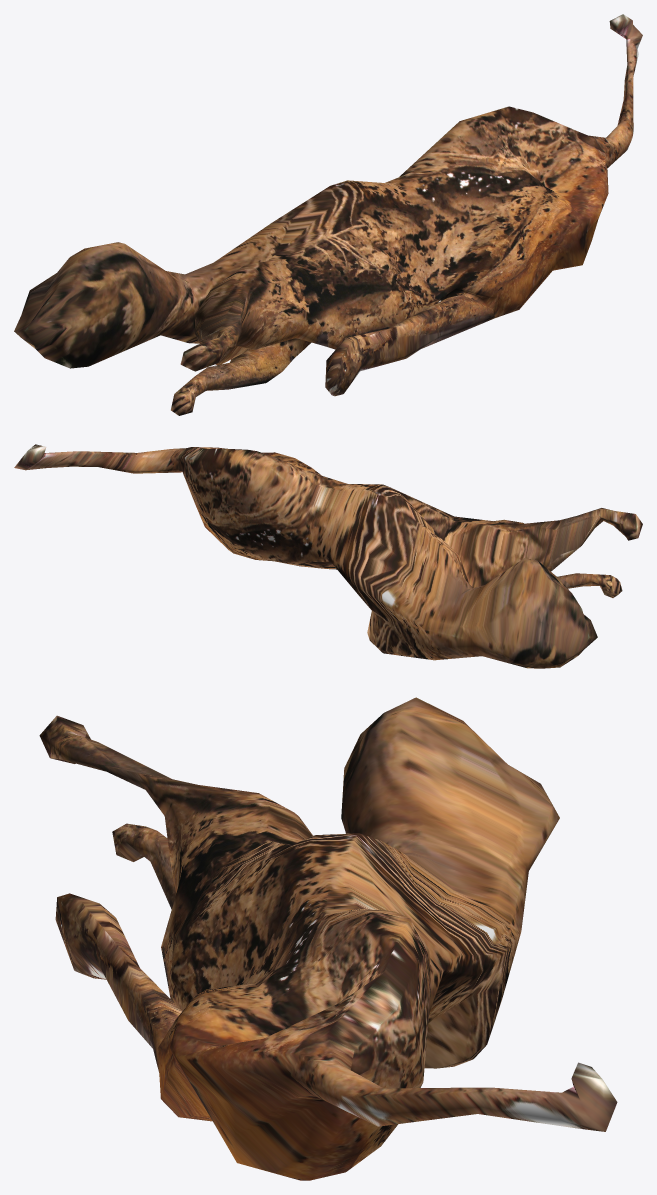
File: mummy.fbx
The picture shows the model from 3 angles, top to bottom: view 1: azimuth 30°, elevation 25°; view 2: azimuth 150°, elevation 25°; view 3: azimuth 270°, elevation 25°; orthographic projection. The views are drawn at different scales.
Parts seen in each view (by area): view 1: cat.001; view 2: cat.001; view 3: cat.001.
Boxes of the visible parts, box(x1,y1,x2,y2) form: cat.001: box(14, 14, 642, 415); cat.001: box(14, 444, 642, 668); cat.001: box(39, 697, 617, 1180).
Bounding box in the file's own units: 351 × 94.74 × 166.
